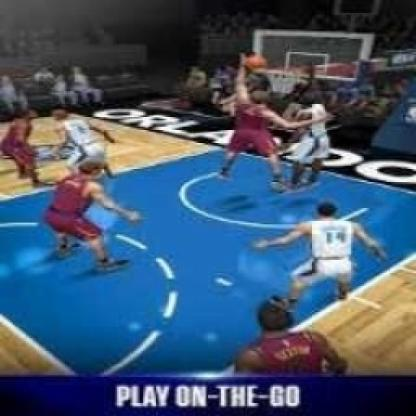basketball: (246, 52, 264, 72)
